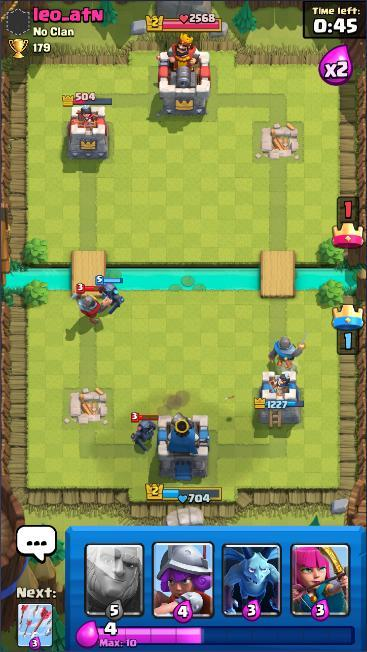ally_knight: (267, 331, 309, 373)
ally_mini_pekka: (93, 274, 127, 317)
enemy_knight: (70, 282, 115, 326)
enemy_mini_pekka: (128, 410, 162, 454)
